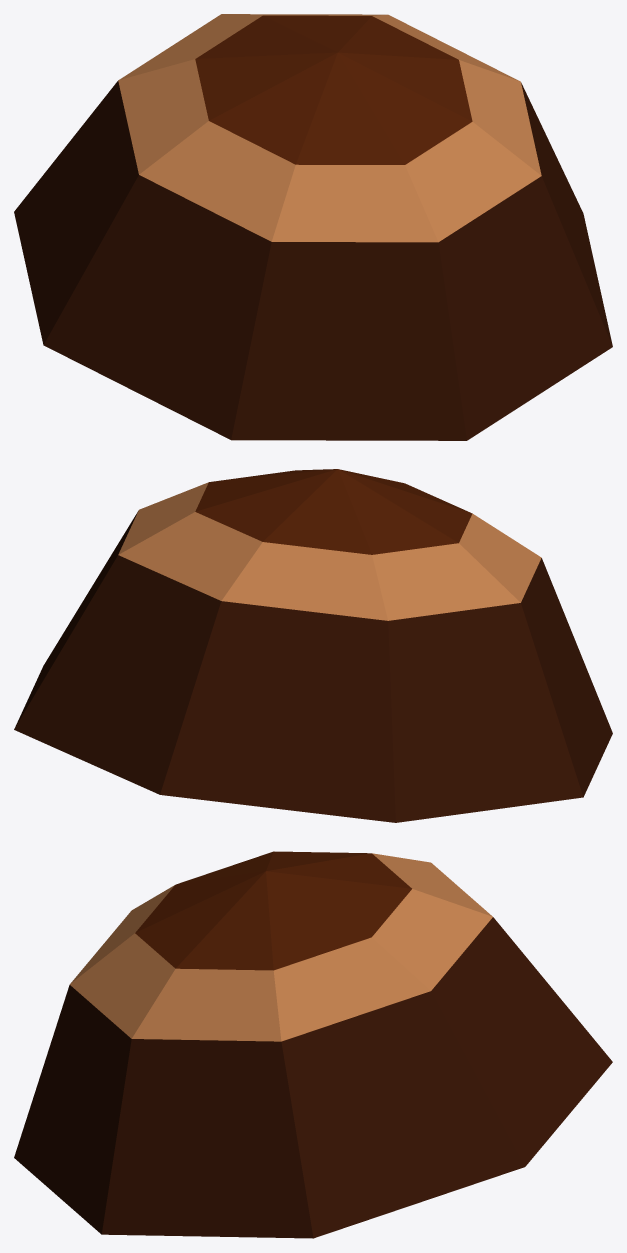
Rendered from Poleyn 08.FBX.
3 renders of one model, top to bottom at view 1: azimuth 30°, elevation 25°; view 2: azimuth 150°, elevation 25°; view 3: azimuth 270°, elevation 25°, orthographic. The views are drawn at different scales.
Visible parts, largest first — view 1: Poleyn 08; view 2: Poleyn 08; view 3: Poleyn 08.
Boxes of the visible parts, left/top/right/bottom form: Poleyn 08: left=14, top=14, right=612, bottom=440; Poleyn 08: left=14, top=469, right=612, bottom=822; Poleyn 08: left=14, top=851, right=612, bottom=1238.
Bounding box in the file's own units: 13.59 × 7.06 × 13.38.
